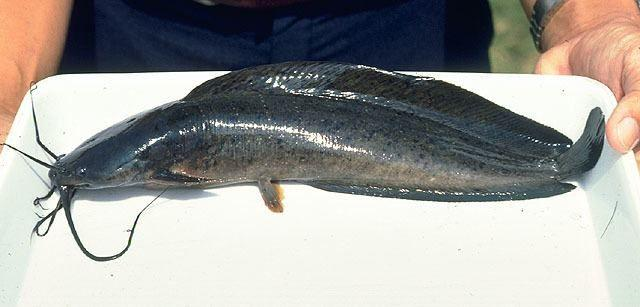Catfish: (13, 64, 607, 262)
